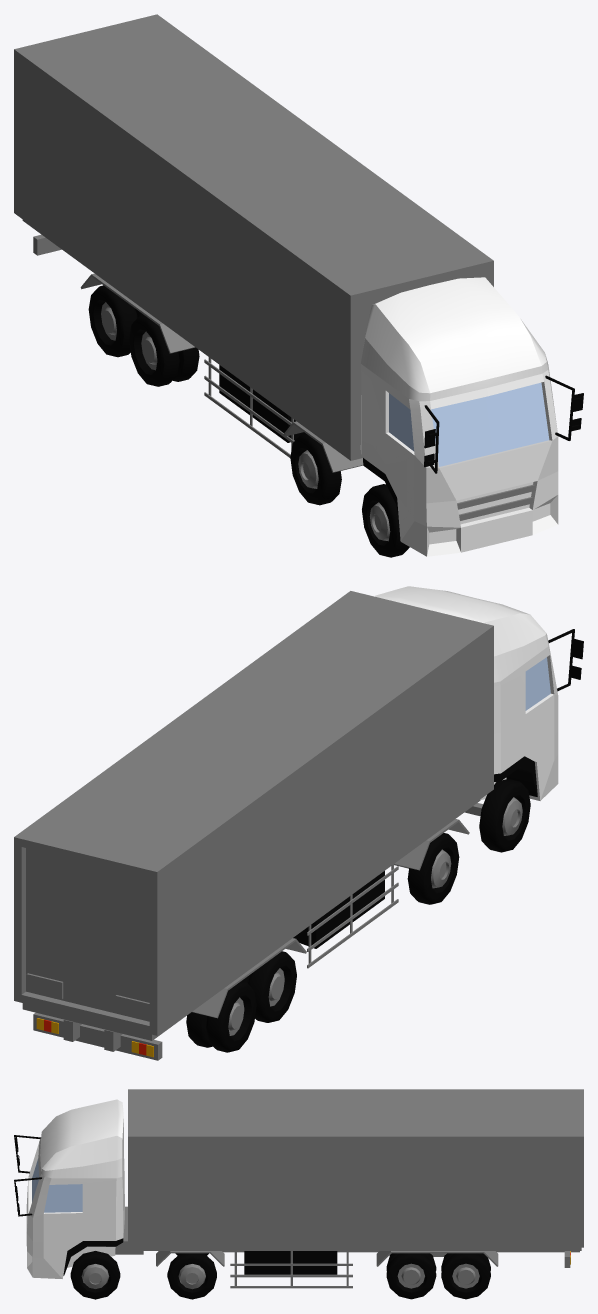
Rendered from Truck.fbx.
3 views of the same model, one above another, from view 1: azimuth 30°, elevation 25°; view 2: azimuth 150°, elevation 25°; view 3: azimuth 270°, elevation 25° (orthographic). The views are drawn at different scales.
Parts seen in each view (by area): view 1: Truck 1 Cargo, Truck 1 Model.004, Truck 1 Model.003, 円柱.001, 平面.002, 立方体.008, 立方体.002, 平面.001, 立方体.001, Truck 1 Model.007; view 2: Truck 1 Cargo, 円柱.001, Truck 1 Model.004, Truck 1 Model.003, Truck 1 Model, 平面.002, 立方体.008, Truck 1 Model.007, 立方体.002, Truck 1 Model.001, 平面.001; view 3: Truck 1 Cargo, Truck 1 Model.004, 円柱.001, Truck 1 Model.003, 立方体.008, Truck 1 Model.007, 立方体.002, 平面.002, Truck 1 Model, Truck 1 Model.001, 平面.001.
Part boxes in pixels (left/top/right/bottom): Truck 1 Cargo: left=14, top=14, right=493, bottom=459; Truck 1 Model.004: left=360, top=364, right=558, bottom=556; Truck 1 Model.003: left=361, top=277, right=548, bottom=401; 円柱.001: left=88, top=285, right=409, bottom=557; 平面.002: left=80, top=273, right=363, bottom=472; 立方体.008: left=219, top=365, right=305, bottom=442; 立方体.002: left=204, top=357, right=294, bottom=457; 平面.001: left=424, top=375, right=583, bottom=473; 立方体.001: left=457, top=484, right=534, bottom=520; Truck 1 Model.007: left=22, top=219, right=362, bottom=460; Truck 1 Cargo: left=14, top=591, right=493, bottom=1035; 円柱.001: left=186, top=779, right=530, bottom=1052; Truck 1 Model.004: left=480, top=642, right=558, bottom=800; Truck 1 Model.003: left=375, top=586, right=548, bottom=682; Truck 1 Model: left=33, top=1012, right=162, bottom=1060; 平面.002: left=192, top=819, right=469, bottom=1018; 立方体.008: left=293, top=871, right=384, bottom=948; Truck 1 Model.007: left=22, top=800, right=480, bottom=1040; 立方体.002: left=307, top=864, right=398, bottom=968; Truck 1 Model.001: left=494, top=756, right=537, bottom=796; 平面.001: left=548, top=629, right=583, bottom=691; Truck 1 Cargo: left=128, top=1089, right=583, bottom=1247; Truck 1 Model.004: left=26, top=1137, right=124, bottom=1278; 円柱.001: left=70, top=1251, right=490, bottom=1299; Truck 1 Model.003: left=40, top=1099, right=123, bottom=1178; 立方体.008: left=244, top=1251, right=337, bottom=1274; Truck 1 Model.007: left=137, top=1247, right=581, bottom=1267; 立方体.002: left=230, top=1247, right=352, bottom=1288; 平面.002: left=156, top=1251, right=498, bottom=1266; Truck 1 Model: left=106, top=1206, right=579, bottom=1256; Truck 1 Model.001: left=63, top=1238, right=123, bottom=1275; 平面.001: left=14, top=1135, right=41, bottom=1216.
Size of the model in its own units: 2.66 by 3.92 by 12.26.
